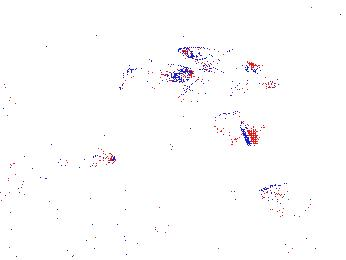X-ray fish: (252, 179, 329, 218)
red belly glassfish: (60, 144, 118, 168)
redtail glassfish: (181, 70, 284, 96), (114, 59, 195, 91), (176, 44, 259, 74), (210, 111, 268, 151)
